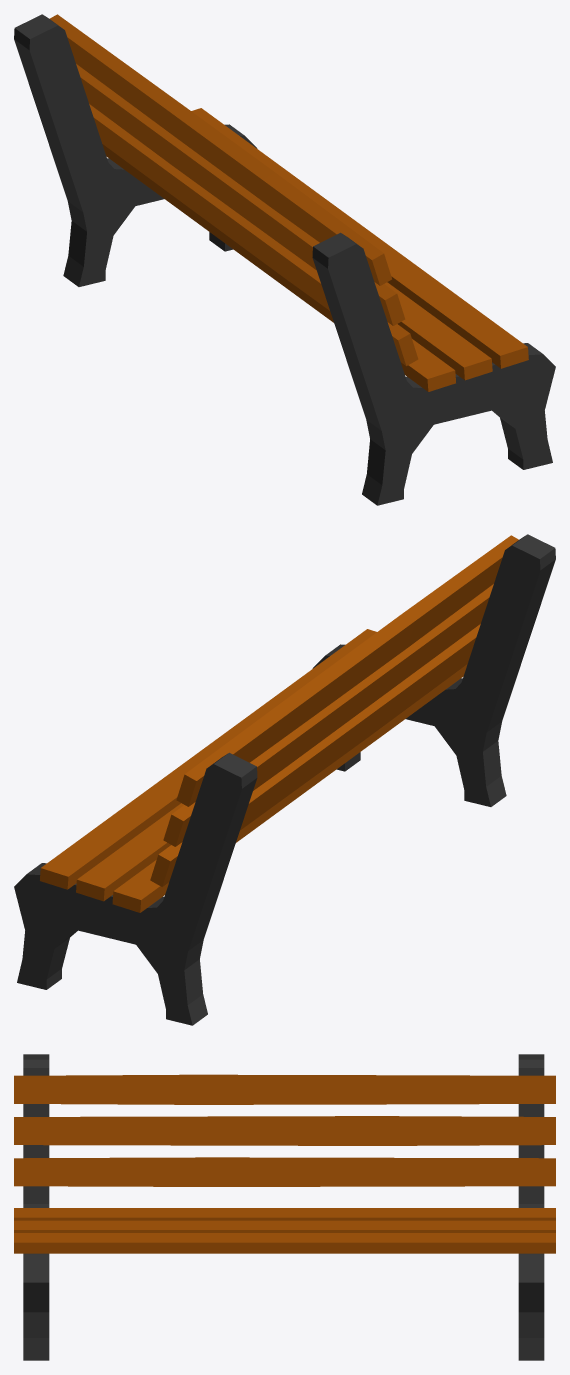
File: prop_bench2.fbx
3 renders of one model, top to bottom at view 1: azimuth 30°, elevation 25°; view 2: azimuth 150°, elevation 25°; view 3: azimuth 270°, elevation 25°, orthographic. The views are drawn at different scales.
Visible parts, largest first — view 1: Ben1.1, Bänk1, Cube.011, Cube.010, Cube.009, Cube.008, Cube.006, Cube.007; view 2: Bänk1, Ben1.1, Cube.011, Cube.010, Cube.009, Cube.008, Cube.006, Cube.007; view 3: Cube.011, Cube.010, Cube.009, Cube.008, Cube.007, Cube.006, Bänk1, Ben1.1.
Part boxes in pixels (x1,y1,x2,y2): Ben1.1: [312, 232, 555, 505]; Bänk1: [14, 14, 257, 286]; Cube.011: [49, 14, 391, 285]; Cube.010: [76, 64, 405, 325]; Cube.009: [89, 104, 418, 365]; Cube.008: [191, 108, 528, 368]; Cube.006: [102, 144, 455, 391]; Cube.007: [384, 282, 492, 380]; Bänk1: [14, 752, 257, 1025]; Ben1.1: [312, 534, 555, 806]; Cube.011: [176, 535, 518, 806]; Cube.010: [163, 584, 493, 846]; Cube.009: [150, 624, 480, 886]; Cube.008: [40, 629, 376, 889]; Cube.006: [112, 664, 467, 912]; Cube.007: [76, 803, 183, 901]; Cube.011: [14, 1074, 555, 1104]; Cube.010: [14, 1116, 555, 1145]; Cube.009: [14, 1157, 555, 1186]; Cube.008: [14, 1233, 555, 1253]; Cube.007: [14, 1220, 555, 1232]; Cube.006: [14, 1208, 555, 1220]; Bänk1: [518, 1054, 544, 1360]; Ben1.1: [23, 1054, 49, 1360].
Bounding box in the file's own units: 1.47 × 1.64 × 3.65.
